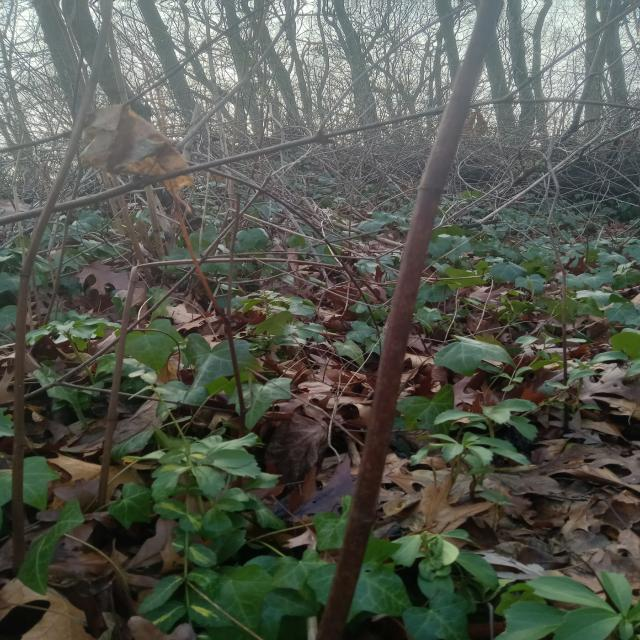knotweed-stems: (313, 1, 505, 637)
tree trunks: (2, 1, 638, 637)
